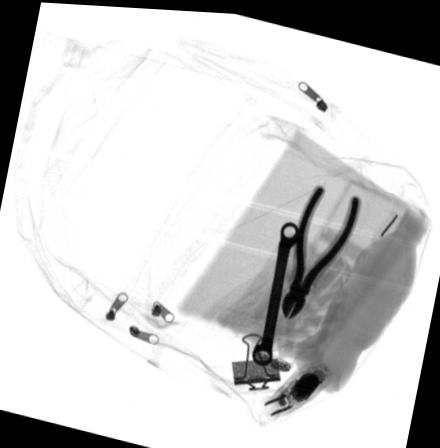Pliers: (281, 179, 361, 316)
Wrench: (250, 217, 300, 364)
